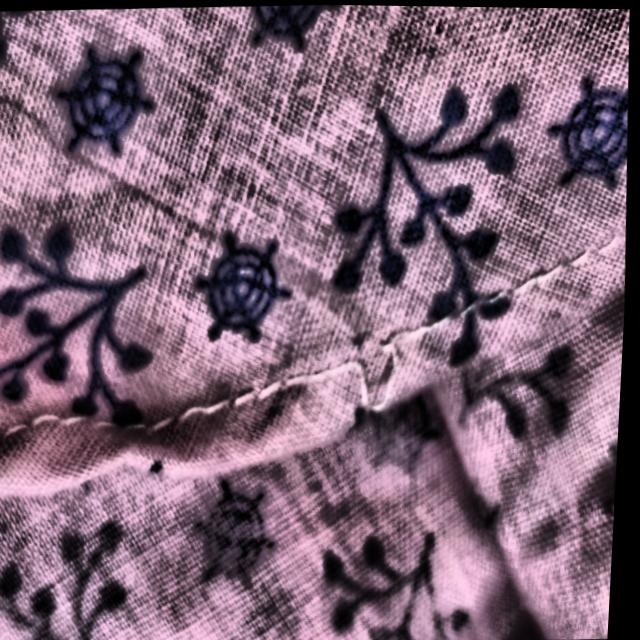Stitch: (291, 281, 470, 483)
